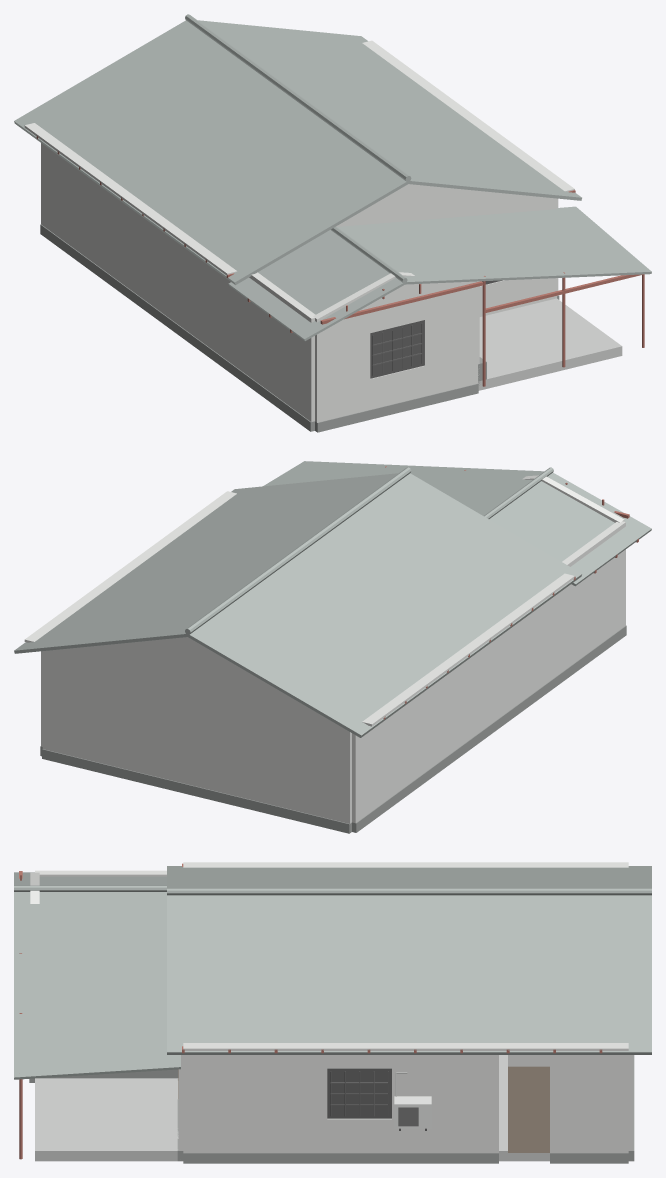
File: guest_house.glb
3 renders of one model, top to bottom at view 1: azimuth 30°, elevation 25°; view 2: azimuth 150°, elevation 25°; view 3: azimuth 270°, elevation 25°, orthographic. The views are drawn at different scales.
Visible parts, largest first — view 1: GH_Batch_GH_RoofCorrugated, GH_Batch_GH_WallWhite, GH_Batch_GH_ConcreteFloor, GH_Batch_GH_PlinthGrey, GH_Batch_GH_TrussRed, GH_Batch_GH_FrameBlack, GH_Batch_GH_GrilleBlack; view 2: GH_Batch_GH_RoofCorrugated, GH_Batch_GH_WallWhite, GH_Batch_GH_PlinthGrey; view 3: GH_Batch_GH_RoofCorrugated, GH_Batch_GH_WallWhite, GH_Batch_GH_ConcreteFloor, GH_Batch_GH_PlinthGrey, GH_Batch_GH_DoorWeathered, GH_Batch_GH_FrameBlack, GH_Batch_GH_ACWhite, GH_Batch_GH_GrilleBlack, GH_Batch_GH_TrussRed.
Part boxes in pixels (x1,y1,x2,y2): GH_Batch_GH_RoofCorrugated: [14, 14, 651, 340]; GH_Batch_GH_WallWhite: [24, 40, 574, 422]; GH_Batch_GH_ConcreteFloor: [478, 298, 622, 390]; GH_Batch_GH_PlinthGrey: [40, 224, 559, 432]; GH_Batch_GH_TrussRed: [36, 135, 644, 386]; GH_Batch_GH_FrameBlack: [370, 280, 502, 378]; GH_Batch_GH_GrilleBlack: [372, 281, 482, 375]; GH_Batch_GH_RoofCorrugated: [14, 461, 651, 737]; GH_Batch_GH_WallWhite: [24, 475, 625, 823]; GH_Batch_GH_PlinthGrey: [40, 625, 626, 833]; GH_Batch_GH_RoofCorrugated: [14, 866, 651, 1079]; GH_Batch_GH_WallWhite: [30, 862, 633, 1152]; GH_Batch_GH_ConcreteFloor: [35, 1055, 549, 1161]; GH_Batch_GH_PlinthGrey: [29, 1055, 634, 1163]; GH_Batch_GH_DoorWeathered: [508, 1066, 549, 1152]; GH_Batch_GH_FrameBlack: [327, 1068, 426, 1130]; GH_Batch_GH_ACWhite: [394, 1096, 431, 1128]; GH_Batch_GH_GrilleBlack: [330, 1071, 388, 1116]; GH_Batch_GH_TrussRed: [19, 863, 602, 1159].
Size of the model in its own units: 9.5 by 4.53 by 13.75.
